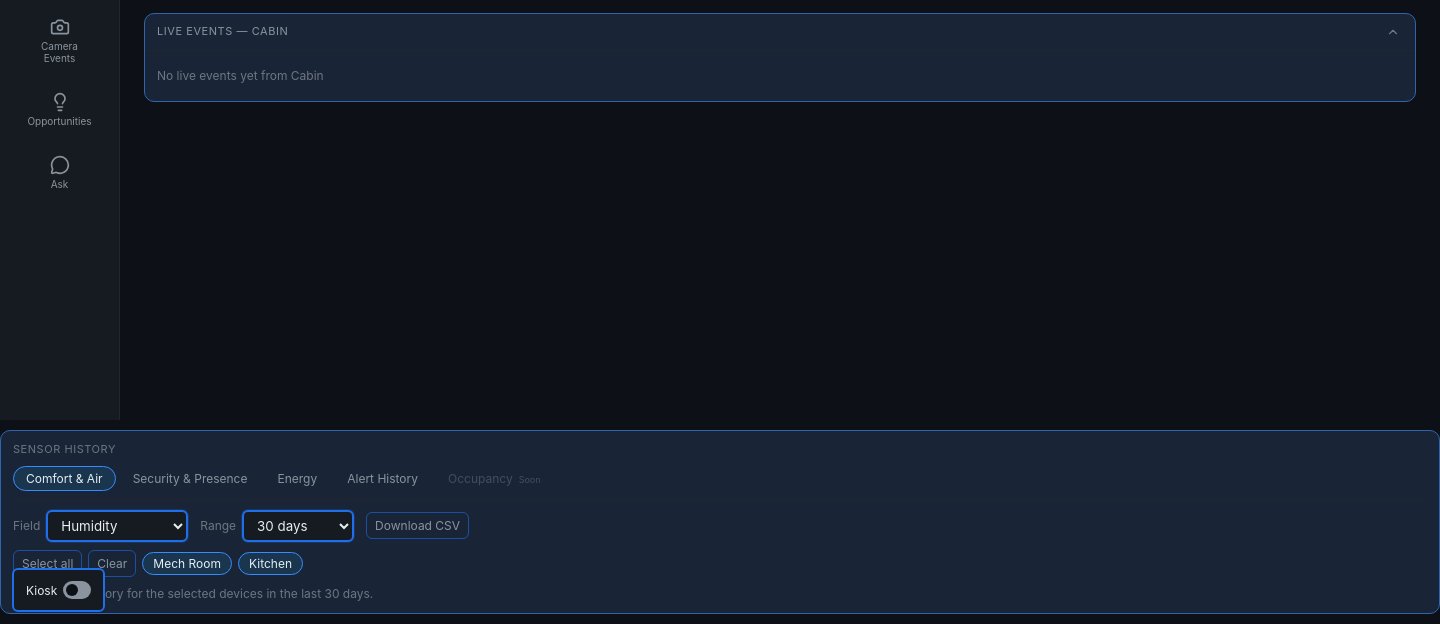
it: SensorHistoryPanel › D16 Topic tab-strip › clicking a Topic with no chartable fields at this location shows an honest empty state, not a blank picker
(page scrolled)
Expected: the tab "Comfort & Air" is shown, [13, 466, 116, 490]
Click the tab "Energy": click(297, 478) [264, 466, 330, 490]
(page scrolled)
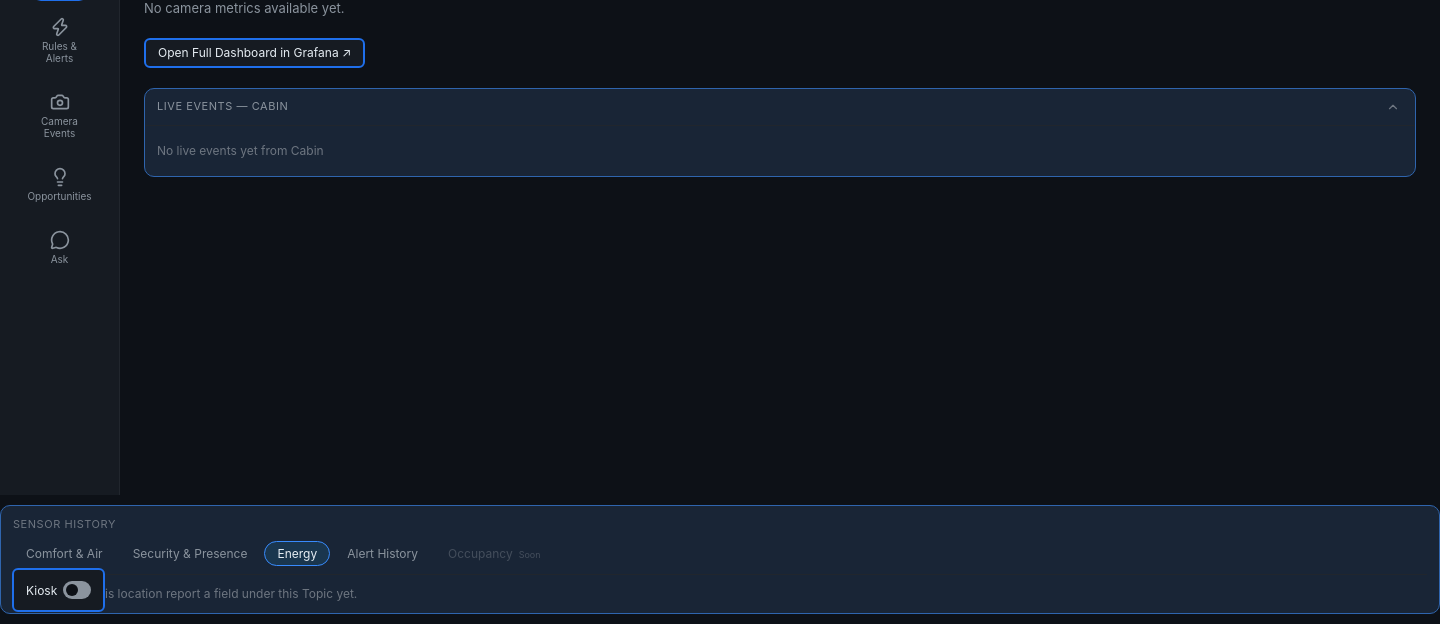
Now the text "No devices at this location report a field under this Topic yet" is shown, box [13, 586, 357, 600]
